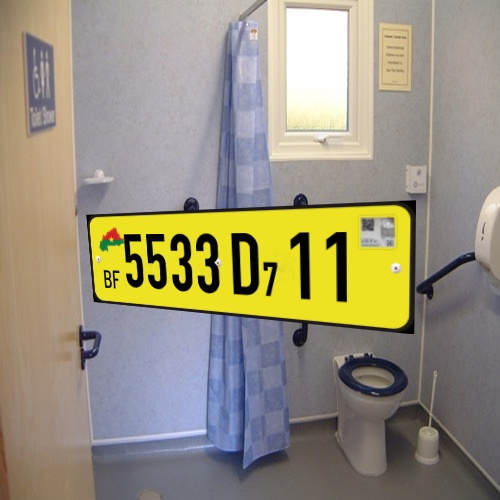plate: (78, 191, 428, 358)
